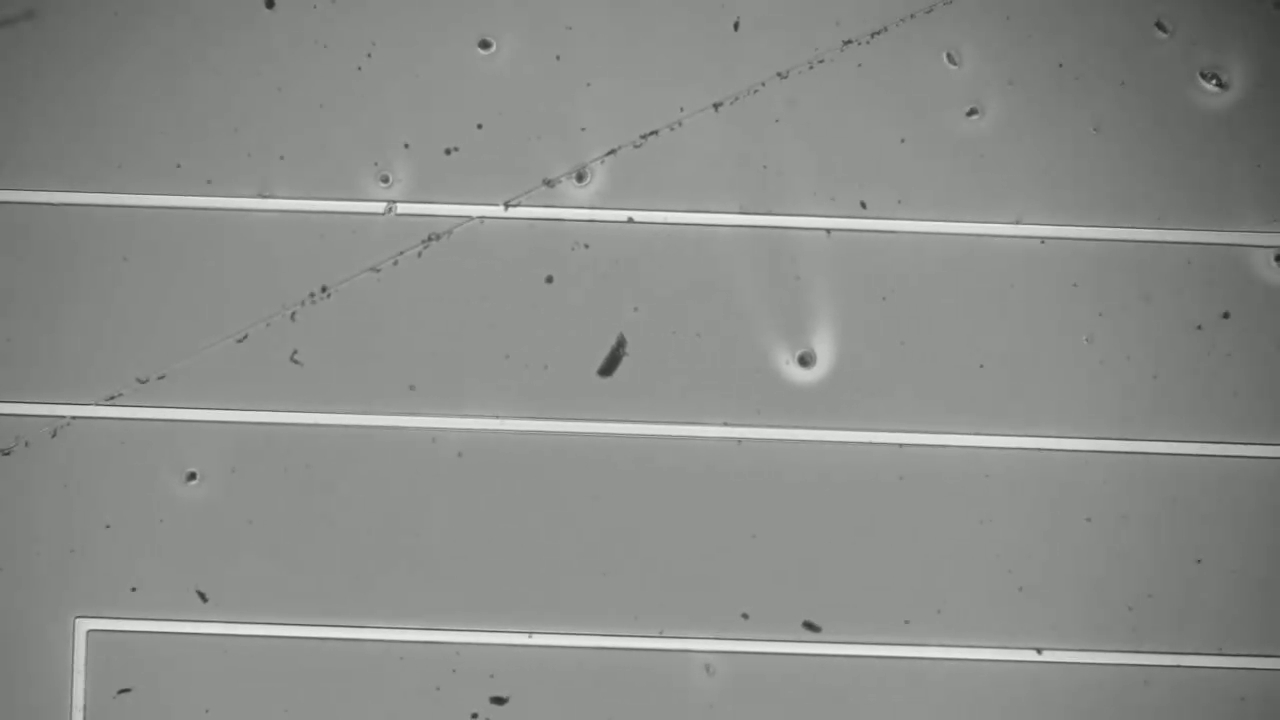scratch: (22, 1, 982, 463)
